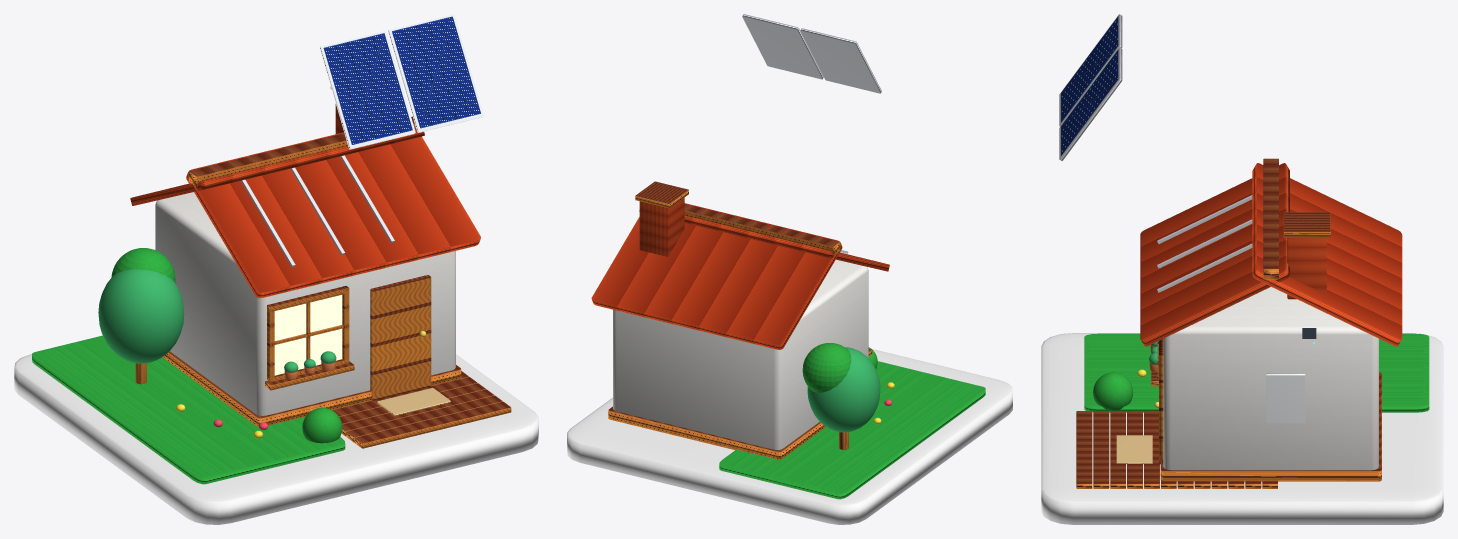
The model's file is casa_isometrica.glb.
3 views of the same model, side by side, from view 1: azimuth 30°, elevation 25°; view 2: azimuth 150°, elevation 25°; view 3: azimuth 270°, elevation 25° (orthographic). The views are drawn at different scales.
Parts seen in each view (by area): view 1: Roof_Front_Slope, House_Body, Diorama_Base, Garden_Patch, Cube, Sphere.004, Panel_Cells_0, Panel_Cells_1, Cube.003, House_Baseboard, Roof_Back_Slope, Cube.011 (+12 smaller); view 2: House_Body, Roof_Back_Slope, Diorama_Base, Garden_Patch, Sphere.004, Panel_Frame_0, Panel_Frame_1, House_Baseboard, Cube.012, Cube.011, Sphere.005, Roof_Front_Slope (+1 smaller); view 3: House_Body, Diorama_Base, Roof_Front_Slope, Roof_Back_Slope, Garden_Patch, House_Baseboard, Solar_Inverter, Cube.012, Cube.011, Panel_Cells_0, Panel_Cells_1, Deck_Plank_0 (+13 smaller).
Boxes of the visible parts, bbox=[...] form: Roof_Front_Slope: bbox=[186, 132, 480, 298]; House_Body: bbox=[155, 192, 455, 415]; Diorama_Base: bbox=[14, 354, 538, 524]; Garden_Patch: bbox=[32, 335, 345, 484]; Cube: bbox=[370, 275, 431, 400]; Sphere.004: bbox=[98, 269, 184, 363]; Panel_Cells_0: bbox=[323, 33, 412, 144]; Panel_Cells_1: bbox=[392, 16, 480, 128]; Cube.003: bbox=[274, 295, 342, 375]; House_Baseboard: bbox=[162, 351, 461, 426]; Roof_Back_Slope: bbox=[130, 129, 424, 205]; Cube.011: bbox=[188, 116, 416, 186]; House_Body: bbox=[613, 259, 868, 449]; Roof_Back_Slope: bbox=[591, 203, 842, 349]; Diorama_Base: bbox=[567, 349, 1012, 524]; Garden_Patch: bbox=[719, 361, 985, 499]; Sphere.004: bbox=[807, 347, 880, 432]; Panel_Frame_0: bbox=[800, 28, 881, 93]; Panel_Frame_1: bbox=[742, 14, 823, 79]; House_Baseboard: bbox=[608, 406, 825, 459]; Cube.012: bbox=[639, 197, 684, 256]; Cube.011: bbox=[684, 204, 840, 255]; Sphere.005: bbox=[802, 343, 851, 392]; Roof_Front_Slope: bbox=[639, 210, 889, 271]; House_Body: bbox=[1163, 287, 1378, 470]; Diorama_Base: bbox=[1041, 333, 1443, 524]; Roof_Front_Slope: bbox=[1140, 163, 1289, 346]; Roof_Back_Slope: bbox=[1252, 163, 1402, 346]; Garden_Patch: bbox=[1084, 333, 1429, 412]; House_Baseboard: bbox=[1160, 372, 1381, 481]; Solar_Inverter: bbox=[1266, 373, 1305, 423]; Cube.012: bbox=[1287, 237, 1326, 299]; Cube.011: bbox=[1263, 158, 1278, 279]; Panel_Cells_0: bbox=[1061, 16, 1118, 122]; Panel_Cells_1: bbox=[1061, 50, 1118, 155]; Deck_Plank_0: bbox=[1076, 411, 1092, 488].
Bounding box in the file's own units: 5.6 × 6.45 × 5.6.
18 materials, 5 textured.
